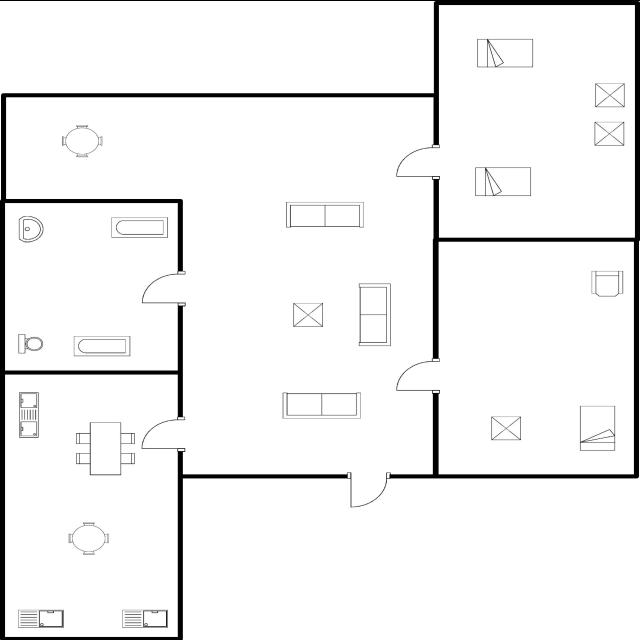armchair: (586, 266, 628, 300)
bed: (471, 162, 536, 200), (574, 400, 620, 453), (472, 34, 536, 70)
coffee_table: (486, 412, 526, 444), (590, 118, 630, 148), (289, 299, 327, 329), (590, 80, 628, 110)
dining_table: (70, 420, 140, 478)
large_sink: (14, 329, 46, 358)
large_sofa: (276, 388, 366, 422), (354, 278, 396, 349), (282, 198, 368, 232)
round_table: (64, 517, 114, 559), (56, 120, 106, 160)
sink: (13, 604, 68, 630), (119, 604, 172, 630)
small_sink: (14, 211, 46, 246)
tub: (106, 212, 170, 242), (70, 332, 134, 360)
twin_sink: (14, 388, 44, 440)
